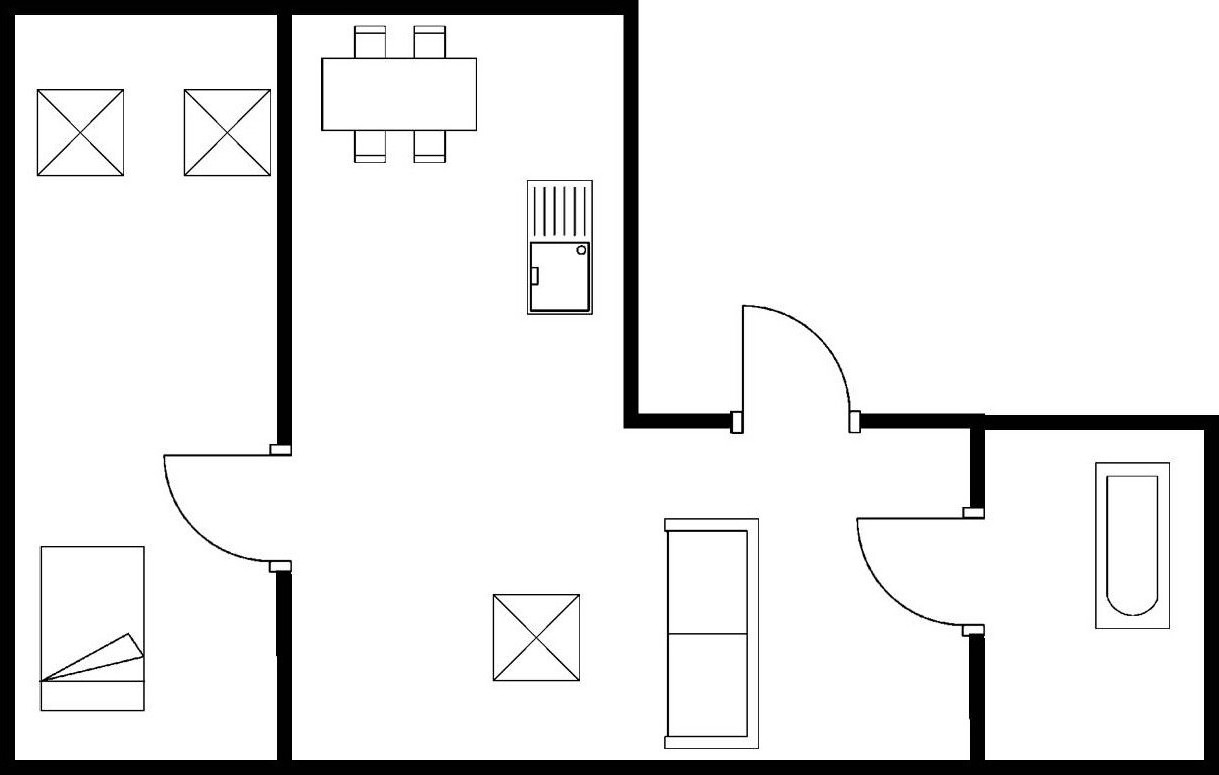bed: (35, 539, 151, 719)
coffee_table: (488, 587, 589, 689), (178, 82, 277, 184), (32, 84, 131, 184)
dining_table: (315, 21, 484, 168)
large_sofa: (659, 513, 765, 754)
sink: (522, 175, 599, 321)
tub: (1090, 456, 1175, 636)
